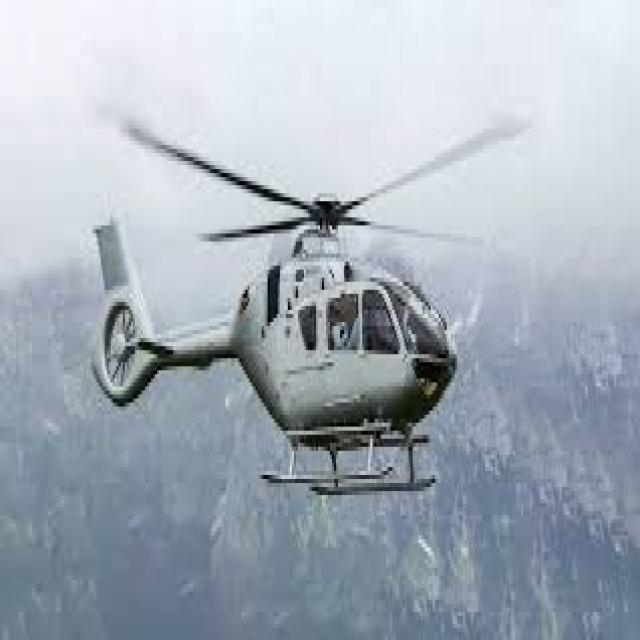plane: (82, 58, 543, 510)
